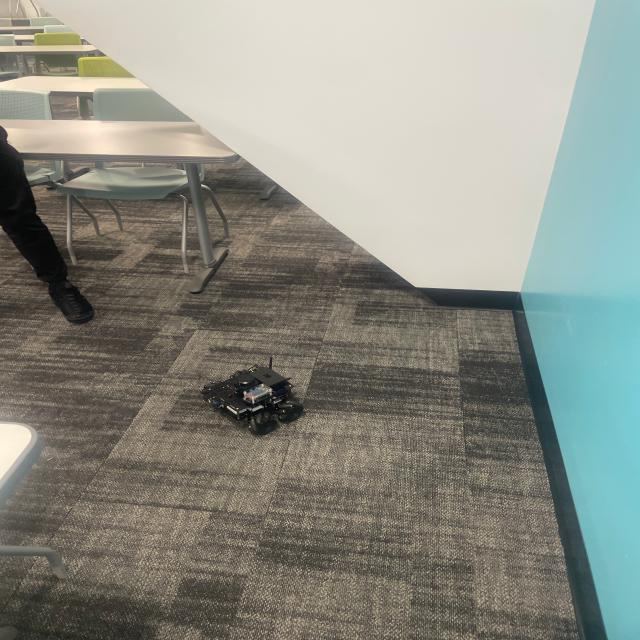ArduinoCar3: (196, 354, 312, 434)
